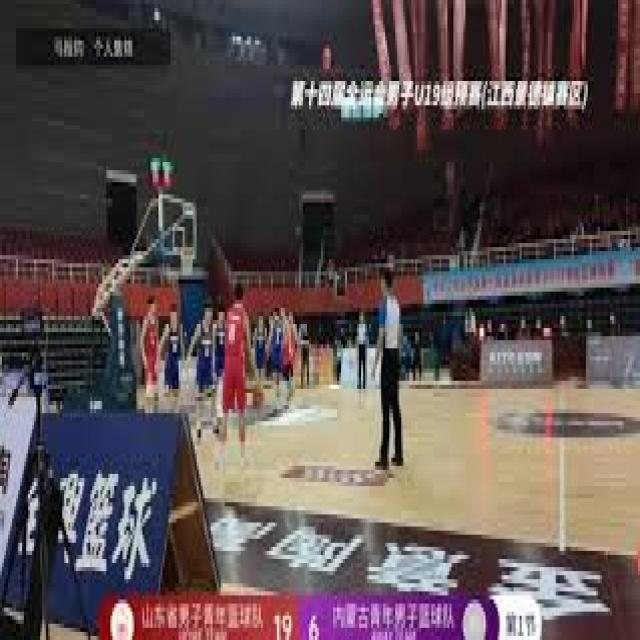rim: (251, 380, 265, 410)
